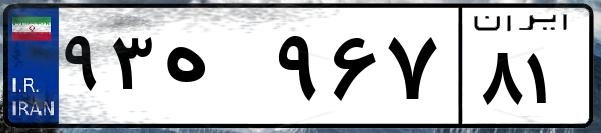1: (525, 38, 570, 115)
3: (110, 28, 158, 98)
6: (330, 28, 385, 110)
7: (385, 28, 445, 110)
8: (475, 38, 525, 113)
9: (270, 28, 330, 110), (57, 26, 110, 100)
ه: (158, 20, 270, 120)
